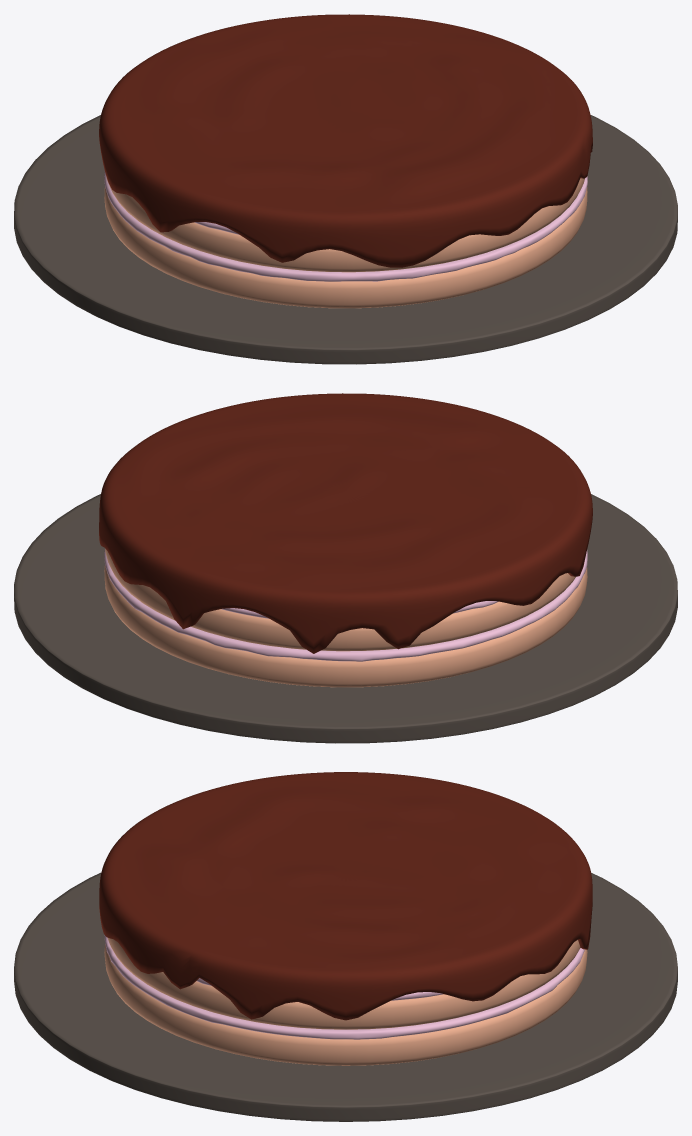
File: 2LayerRoundCake.fbx
The picture shows the model from 3 angles, top to bottom: view 1: azimuth 30°, elevation 25°; view 2: azimuth 150°, elevation 25°; view 3: azimuth 270°, elevation 25°; orthographic projection.
Visible parts, largest first — view 1: Cylinder.006, Cylinder.001, Cylinder, Cylinder.003, Cylinder.002; view 2: Cylinder.006, Cylinder.001, Cylinder, Cylinder.003, Cylinder.002; view 3: Cylinder.006, Cylinder.001, Cylinder, Cylinder.003, Cylinder.002.
Boxes of the visible parts, <box> form: Cylinder.006: <box>99,14,592,267</box>; Cylinder.001: <box>14,115,677,364</box>; Cylinder: <box>104,186,587,308</box>; Cylinder.003: <box>106,177,584,272</box>; Cylinder.002: <box>104,171,587,281</box>; Cylinder.006: <box>99,393,592,653</box>; Cylinder.001: <box>14,494,677,743</box>; Cylinder: <box>104,565,587,687</box>; Cylinder.003: <box>105,548,575,651</box>; Cylinder.002: <box>104,549,587,661</box>; Cylinder.006: <box>99,772,592,1020</box>; Cylinder.001: <box>14,872,677,1121</box>; Cylinder: <box>104,944,587,1065</box>; Cylinder.003: <box>107,938,580,1029</box>; Cylinder.002: <box>104,935,584,1039</box>.
Bounding box in the file's own units: 39.74 × 7.49 × 39.74.
